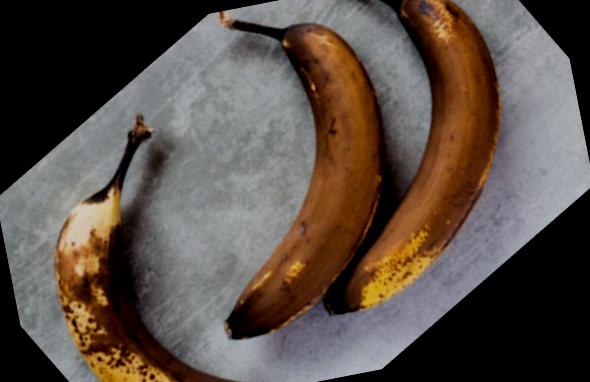Banana Overripe: (0, 0, 564, 382)
